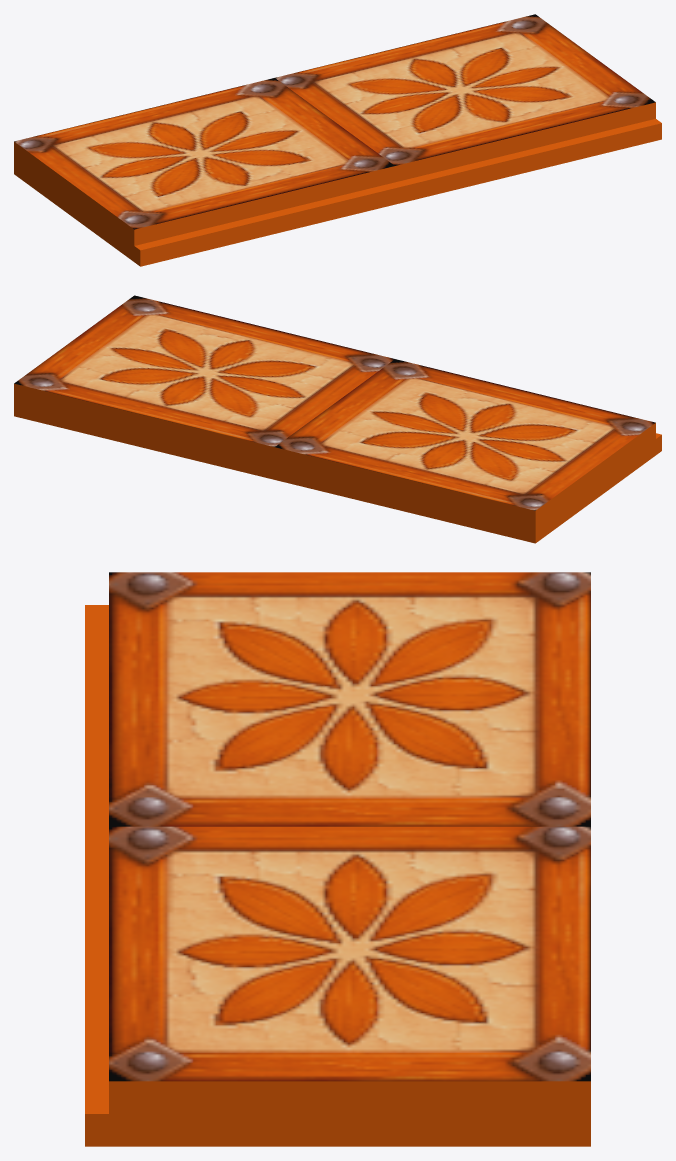
The model's file is Pool_EdgeStone.fbx.
3 renders of one model, top to bottom at view 1: azimuth 30°, elevation 25°; view 2: azimuth 150°, elevation 25°; view 3: azimuth 270°, elevation 25°, orthographic. The views are drawn at different scales.
Parts seen in each view (by area): view 1: Pool_EdgeStone; view 2: Pool_EdgeStone; view 3: Pool_EdgeStone.
Boxes of the visible parts, x1=… form: Pool_EdgeStone: x1=14, y1=14, x2=661, y2=266; Pool_EdgeStone: x1=14, y1=295, x2=661, y2=543; Pool_EdgeStone: x1=85, y1=572, x2=590, y2=1146.
Size of the model in its own units: 1 by 0.06 by 0.42.
